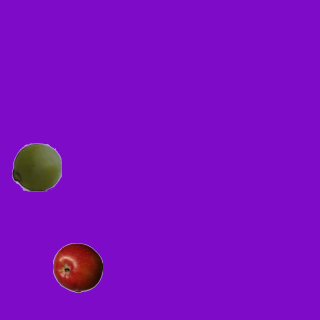Apple Braeburn: (52, 242, 102, 292)
Grape White 4: (11, 141, 61, 191)
